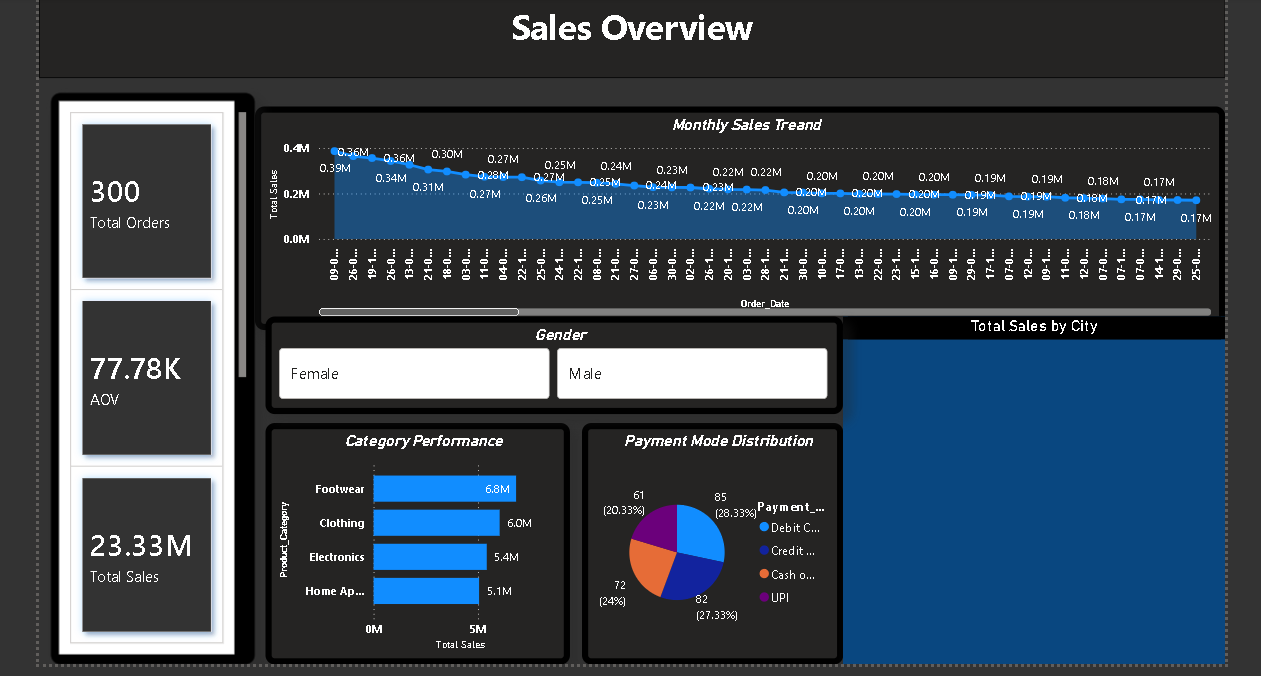

The page's visual inventory and layout, read from the dashboard file:
{"tool":"powerbi","page":{"name":"Page 1","canvas":[1280,720],"ordinal":0},"visuals":[{"type":"lineChart","title":"Monthly Sales Treand","fields":{"Category":["Ecommerce_Data.Order_Date"],"Y":["Ecommerce_Data.Total Sales"]},"box":[233.2,118.2,1047.6,241.3],"z":0},{"type":"cardVisual","fields":{"Data":["Ecommerce_Data.Total Orders","Ecommerce_Data.AOV","Ecommerce_Data.Total Sales","Ecommerce_Data.Return %","Ecommerce_Data.Cancellation %","Ecommerce_Data.Total Customers"]},"box":[13,103.6,220.2,616.9],"z":1000},{"type":"barChart","title":"Category Performance","fields":{"Category":["Ecommerce_Data.Product_Category"],"Y":["Ecommerce_Data.Total Sales"]},"box":[244.5,459.9,328.7,260.7],"z":2000},{"type":"pieChart","title":" Payment Mode Distribution","fields":{"Category":["Ecommerce_Data.Payment_Mode"],"Y":["Ecommerce_Data.Total Orders"]},"box":[586.2,459.9,281.7,260.7],"z":3000},{"type":"textbox","box":[0,0,1280.8,87.4],"z":4000},{"type":"map","fields":{"Category":["Ecommerce_Data.City"],"Size":["Ecommerce_Data.Total Sales"]},"box":[867.9,344.9,412.9,375.7],"z":9000},{"type":"advancedSlicerVisual","fields":{"Values":["Ecommerce_Data.Gender"]},"box":[244.5,344.9,623.4,105.2],"z":9001}]}

Visuals, with their boxes on the page's 1280x720 design canvas (x1, y1, x2, y2). These are canvas units, not pixel positions in the 1261x676 screenshot, which may show the page scaled, cropped or inside an application window:
"Monthly Sales Treand" lineChart: x1=233, y1=118, x2=1281, y2=360
cardVisual - Ecommerce_Data.Total Orders x Ecommerce_Data.AOV: x1=13, y1=104, x2=233, y2=720
"Category Performance" barChart: x1=244, y1=460, x2=573, y2=721
" Payment Mode Distribution" pieChart: x1=586, y1=460, x2=868, y2=721
textbox: x1=0, y1=0, x2=1281, y2=87
map - Ecommerce_Data.City x Ecommerce_Data.Total Sales: x1=868, y1=345, x2=1281, y2=721
advancedSlicerVisual - Ecommerce_Data.Gender: x1=244, y1=345, x2=868, y2=450
